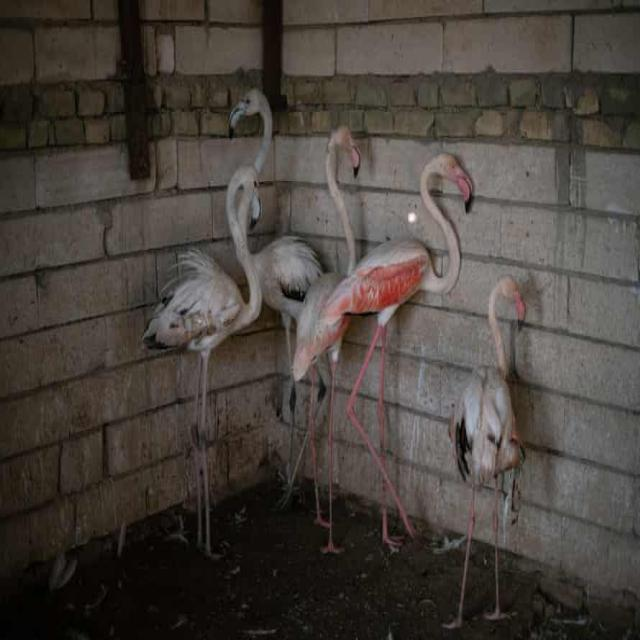Flamingo: (326, 143, 478, 546), (141, 163, 269, 577), (288, 122, 364, 522), (450, 276, 529, 627)
